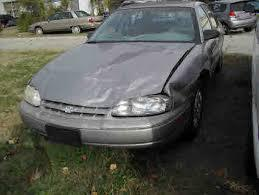Bonnet: (32, 43, 200, 106)
Fender: (162, 44, 215, 110)
